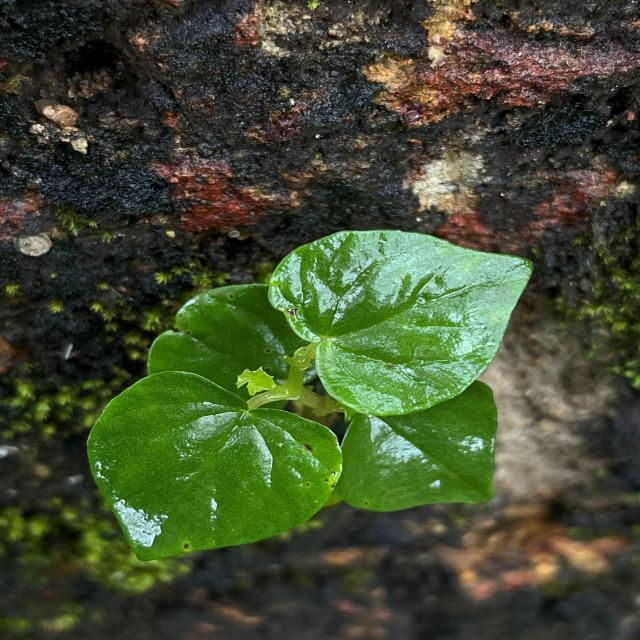Peperomia pellucida: (266, 227, 538, 419), (85, 368, 345, 564)
